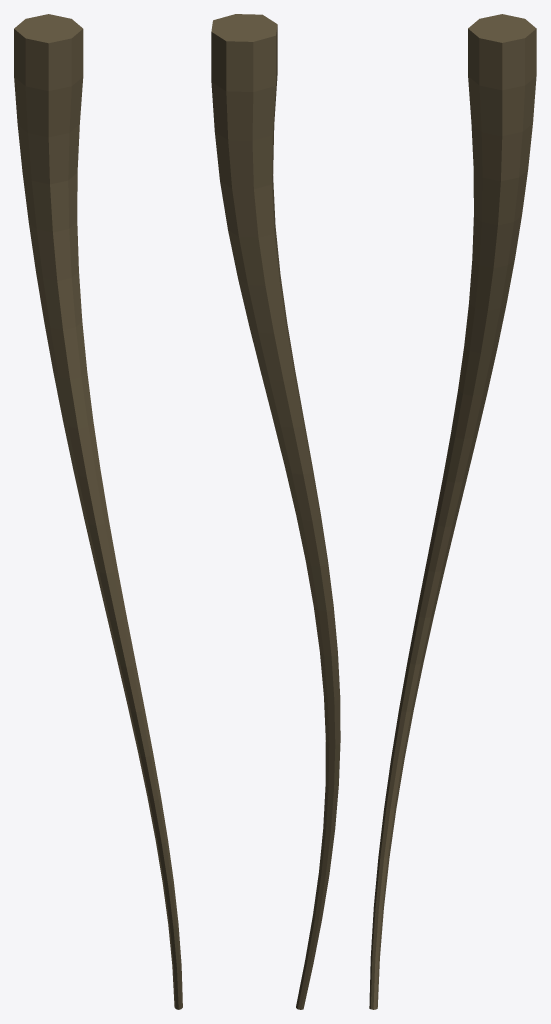
3 renders of one model, left to right at view 1: azimuth 90°, elevation 25°; view 2: azimuth 150°, elevation 25°; view 3: azimuth 270°, elevation 25°, orthographic. The views are drawn at different scales.
Visible parts, largest first — view 1: Root.2.7; view 2: Root.2.7; view 3: Root.2.7.
Boxes of the visible parts, x1,y1,x2,y2 form: Root.2.7: (14,14,182,1009); Root.2.7: (211,14,340,1009); Root.2.7: (369,14,536,1009).
Size of the model in its own units: 35.43 by 412 by 64.
